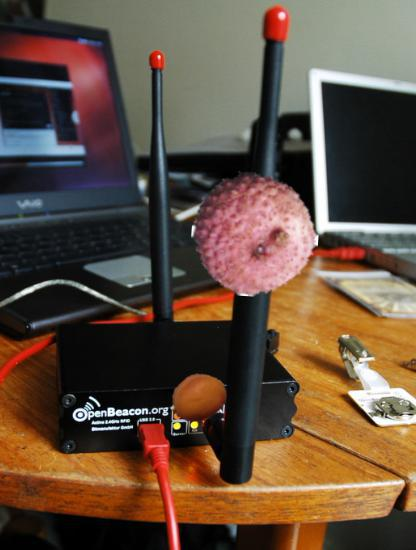Apricot: (171, 370, 227, 426)
Lychee: (192, 170, 319, 297)
